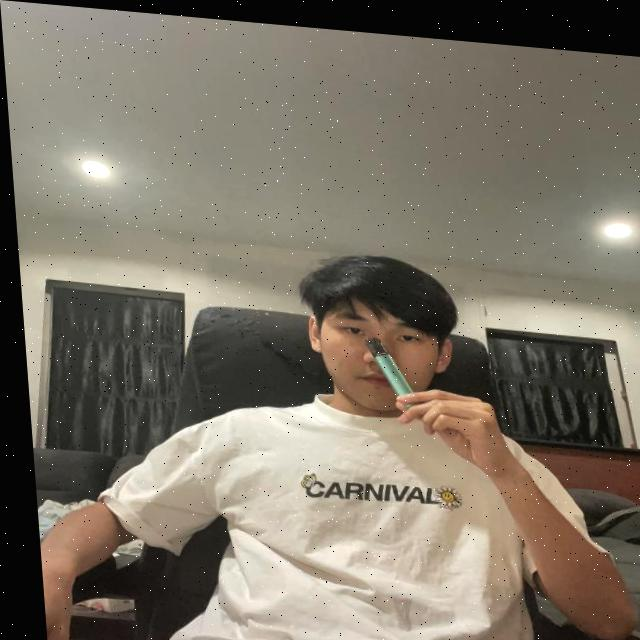vape: (360, 329, 407, 388)
